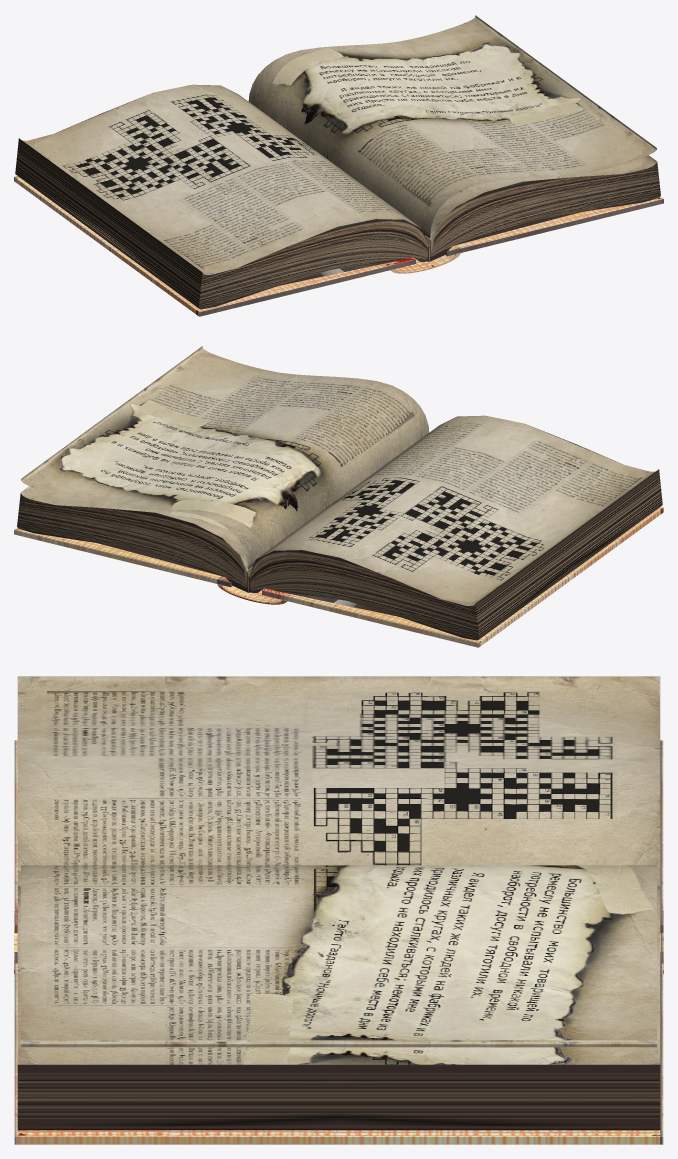
File: BookGaidanov.FBX
3 renders of one model, top to bottom at view 1: azimuth 30°, elevation 25°; view 2: azimuth 150°, elevation 25°; view 3: azimuth 270°, elevation 25°, orthographic. The views are drawn at different scales.
Parts seen in each view (by area): view 1: Group171, Box008; view 2: Group171, Box008; view 3: Group171, Box008.
Part boxes in pixels (x1=…): Group171: x1=14, y1=15, x2=663, y2=316; Box008: x1=15, y1=96, x2=660, y2=309; Group171: x1=14, y1=346, x2=663, y2=647; Box008: x1=17, y1=427, x2=662, y2=640; Group171: x1=14, y1=676, x2=663, y2=1144; Box008: x1=17, y1=1065, x2=660, y2=1130.
Size of the model in its own units: 445 by 65.33 by 308.
3 materials, 3 textured.
